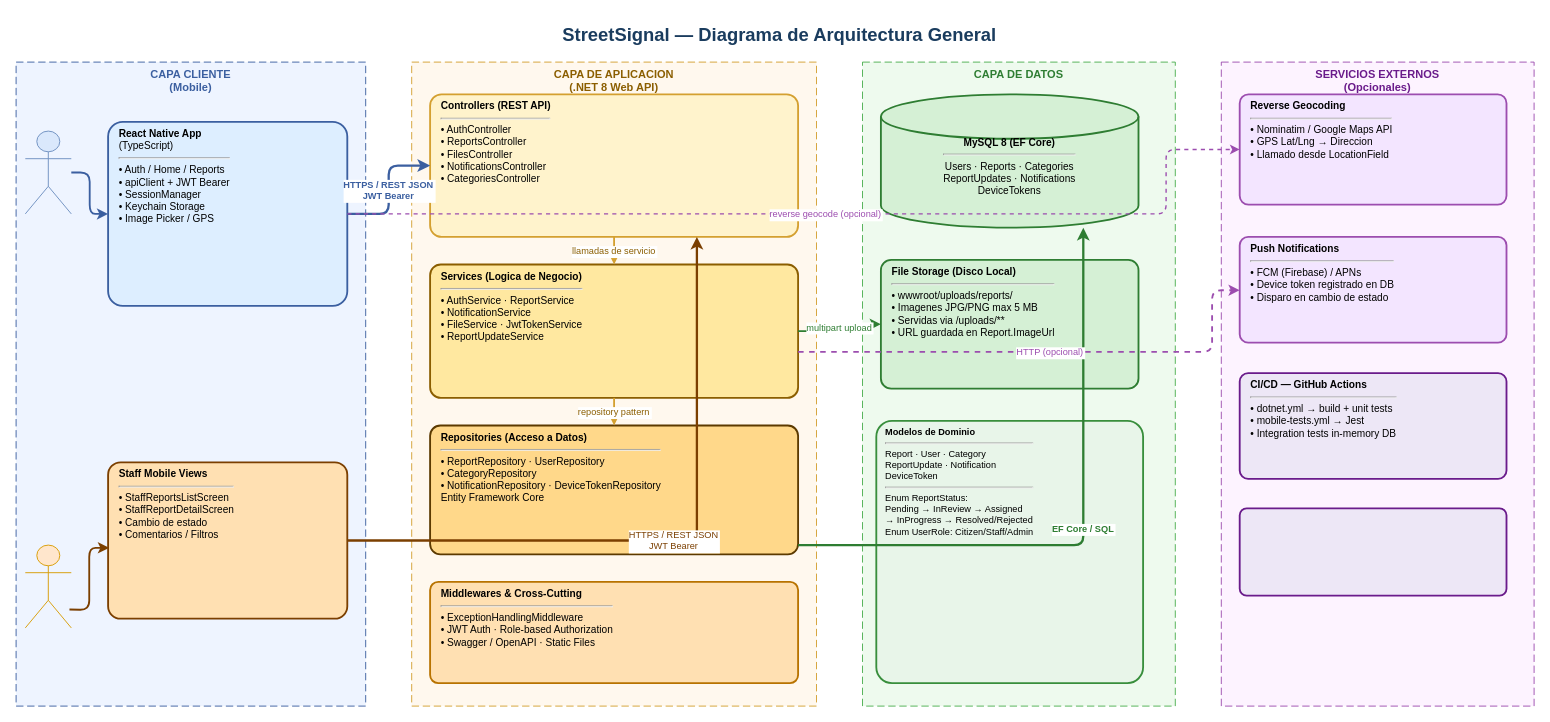
Image size: 1550x722. Some labels were removed from this diagram. The centre of each missing label's shape, as x and y in pixels:
"Ciudadano" belongs at point (47, 172).
"Staff Admin" belongs at point (47, 586).
"Swagger / OpenAPI • /swagger — UI interactiva • streetsignal-api-contracts.yml" belongs at point (1372, 551).
